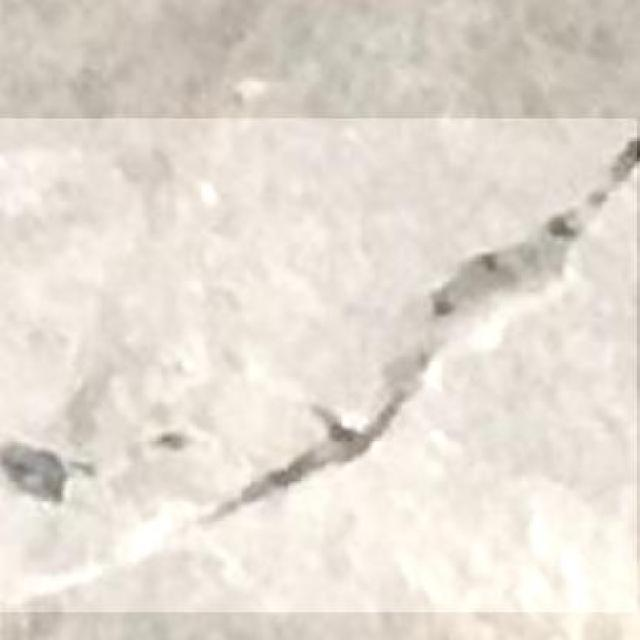Crack: (199, 137, 640, 500)
